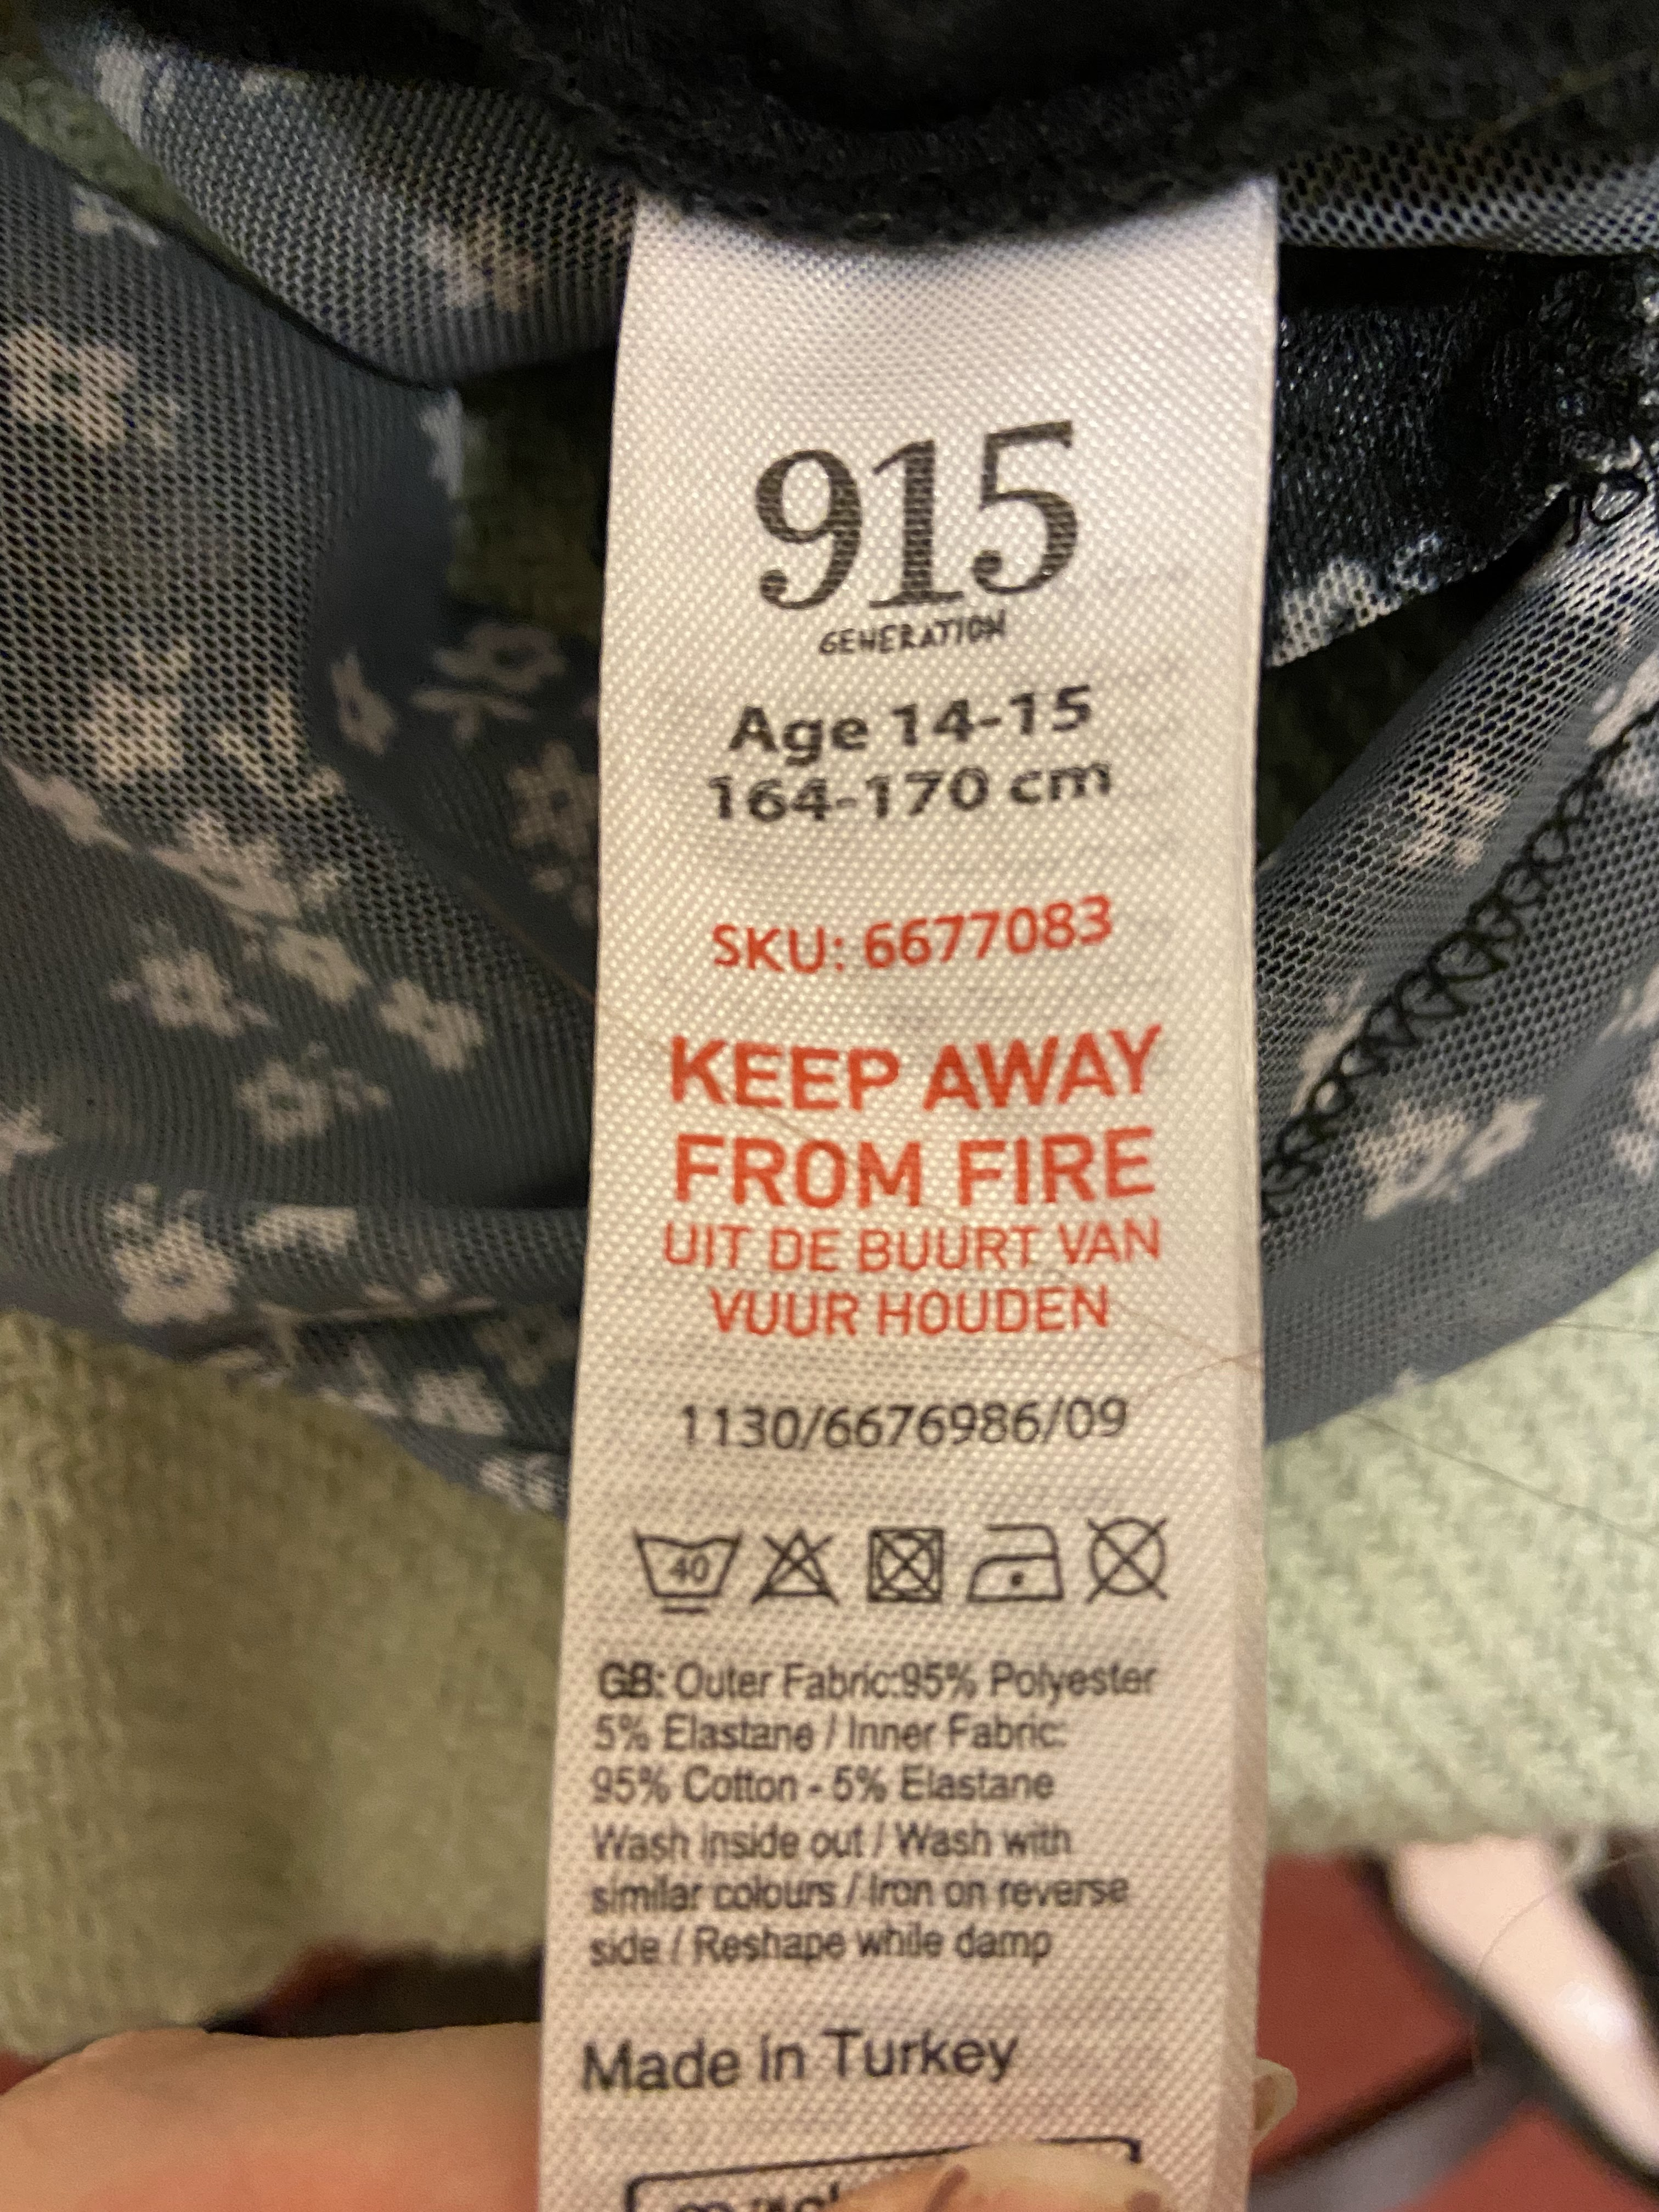do not bleach: (746, 1510, 863, 1625)
do not dry clean: (1061, 1494, 1188, 1622)
do not tumble dry: (850, 1503, 955, 1615)
iron low temp: (938, 1493, 1093, 1622)
wash at or below 40: (624, 1510, 753, 1629)
